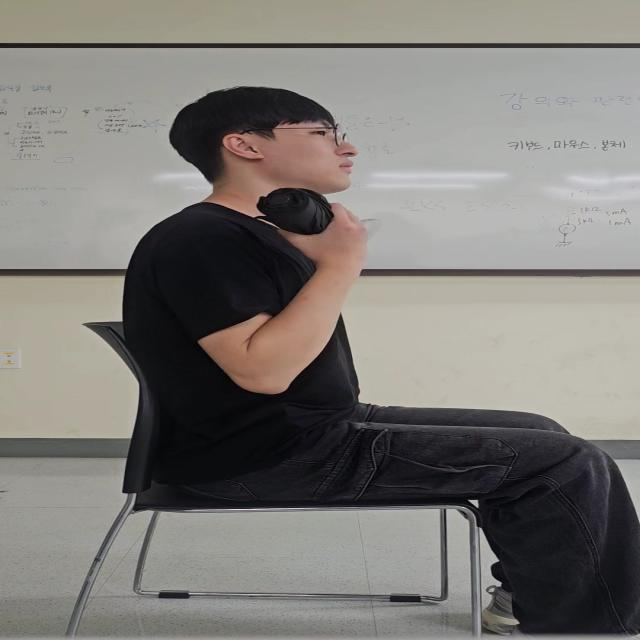curl: (154, 184, 412, 420)
